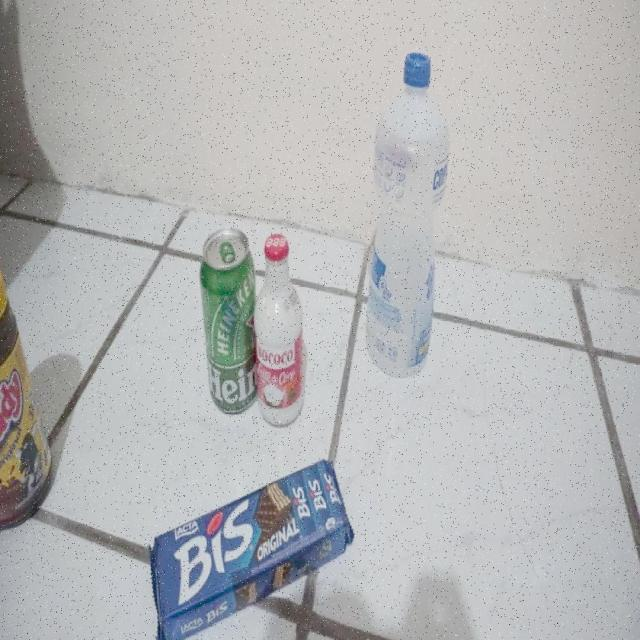AlcoholBottle: (366, 51, 451, 378)
BeerCan: (198, 225, 262, 414)
ChocolatePowder: (0, 254, 55, 530)
CoconutMilk: (254, 234, 307, 432)
